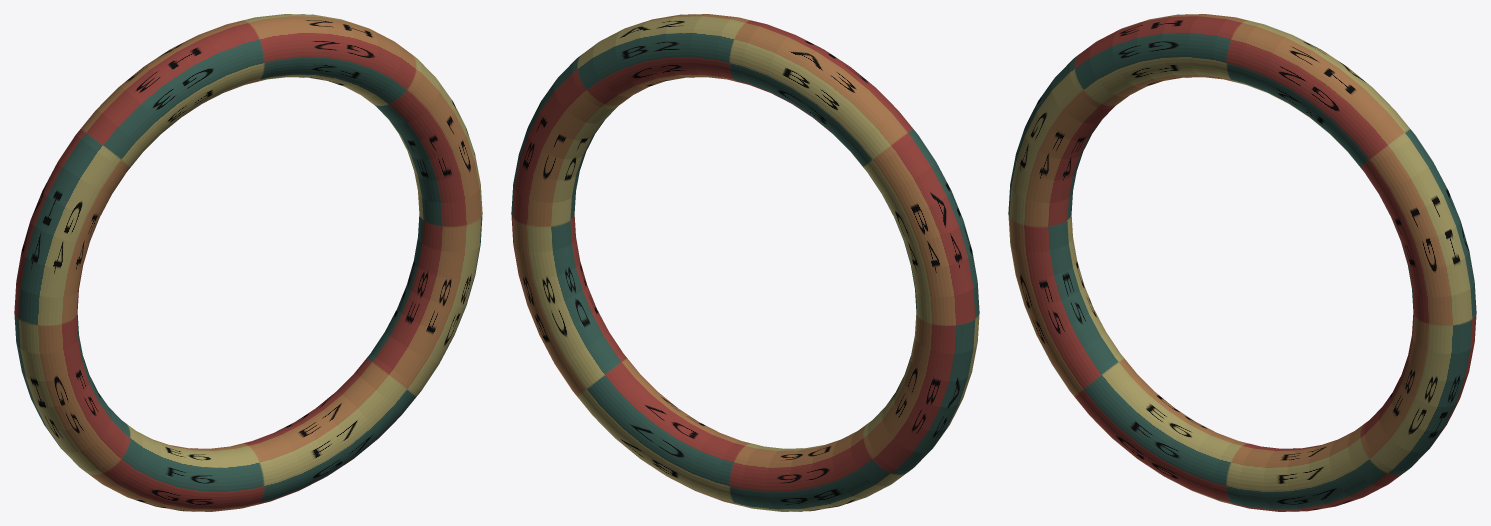
Rendered from texture_torus_R19_r4.glb.
3 renders of one model, left to right at view 1: azimuth 30°, elevation 25°; view 2: azimuth 150°, elevation 25°; view 3: azimuth 330°, elevation 25°, orthographic.
Parts seen in each view (by area): view 1: world; view 2: world; view 3: world.
Part boxes in pixels (x1,y1,x2,y2): world: [14, 14, 482, 511]; world: [511, 14, 979, 511]; world: [1008, 14, 1476, 511].
Size of the model in its own units: 25.73 by 25.68 by 3.06.
1 material, 1 textured.
